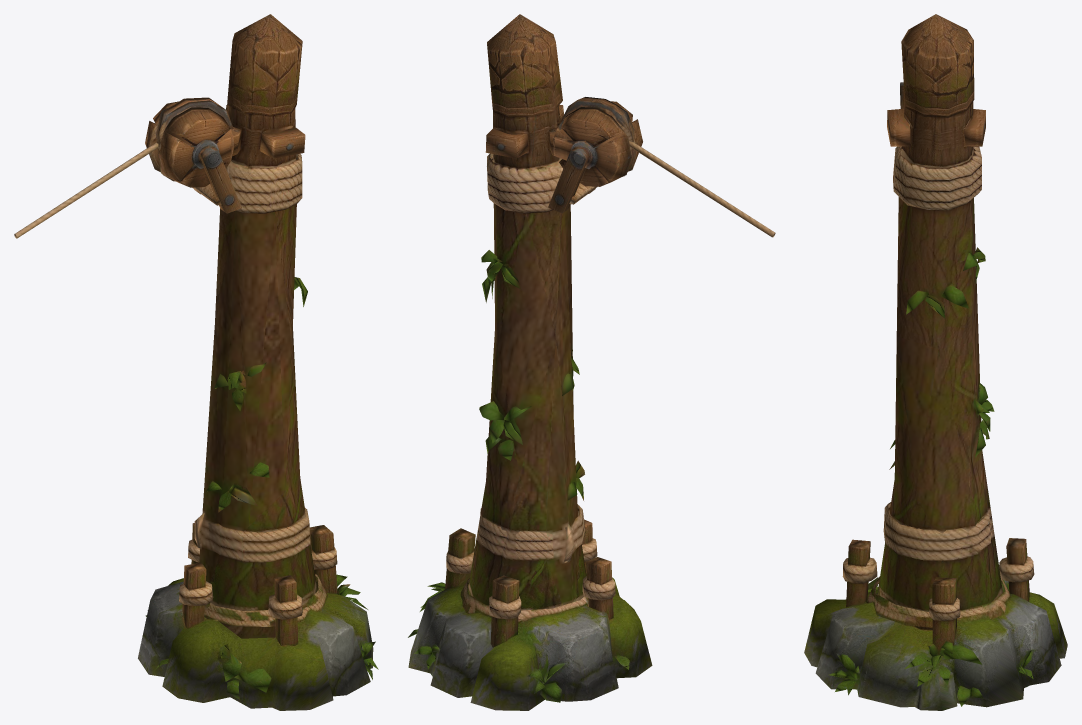
Rendered from ZipPost.fbx.
3 views of the same model, side by side, from view 1: azimuth 30°, elevation 25°; view 2: azimuth 150°, elevation 25°; view 3: azimuth 270°, elevation 25° (orthographic).
Visible parts, largest first — view 1: ZipPost; view 2: ZipPost; view 3: ZipPost.
Part boxes in pixels (x1,y1,x2,y2): ZipPost: [14, 14, 378, 710]; ZipPost: [408, 14, 775, 710]; ZipPost: [804, 14, 1067, 710].
Size of the model in its own units: 1.14 by 2 by 0.7329.
1 material, 1 textured.
